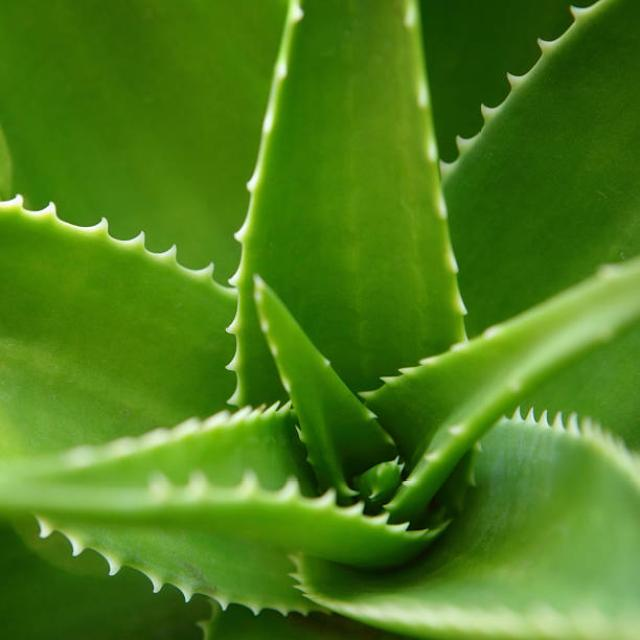AloeVera: (60, 102, 600, 640)
